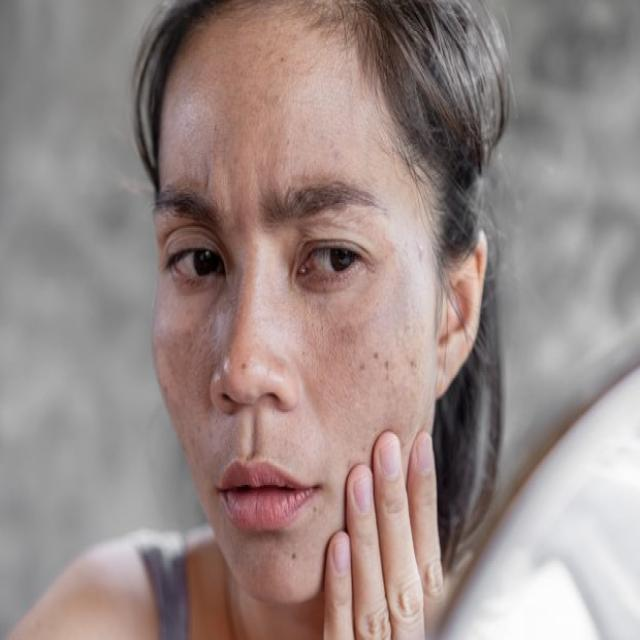dry: (330, 326, 390, 392), (400, 260, 445, 336), (246, 136, 302, 196), (152, 335, 216, 380)
